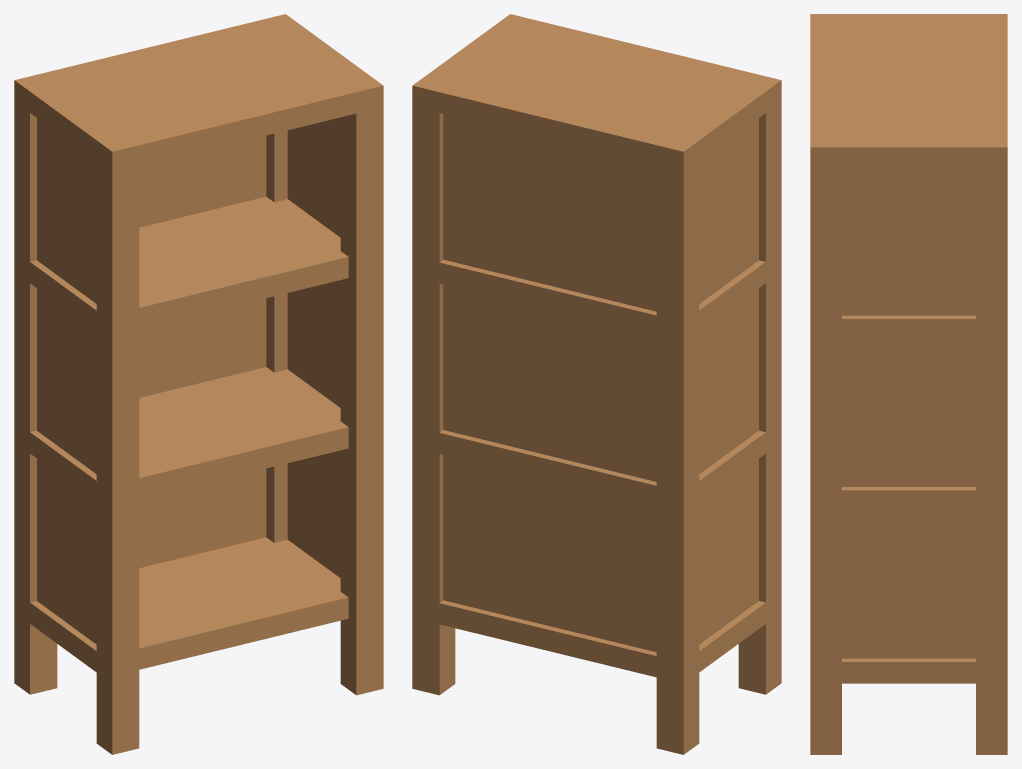
Rendered from kitBookcaseClosed.glb.
The picture shows the model from 3 angles, left to right: view 1: azimuth 30°, elevation 25°; view 2: azimuth 150°, elevation 25°; view 3: azimuth 270°, elevation 25°; orthographic projection.
Parts seen in each view (by area): view 1: kitBookcaseClosed_wood; view 2: kitBookcaseClosed_wood; view 3: kitBookcaseClosed_wood.
Boxes of the visible parts, x1=… form: kitBookcaseClosed_wood: x1=14, y1=14, x2=383, y2=754; kitBookcaseClosed_wood: x1=412, y1=14, x2=781, y2=754; kitBookcaseClosed_wood: x1=810, y1=14, x2=1007, y2=754.
Bounding box in the file's own units: 0.8 × 1.7 × 0.5.
